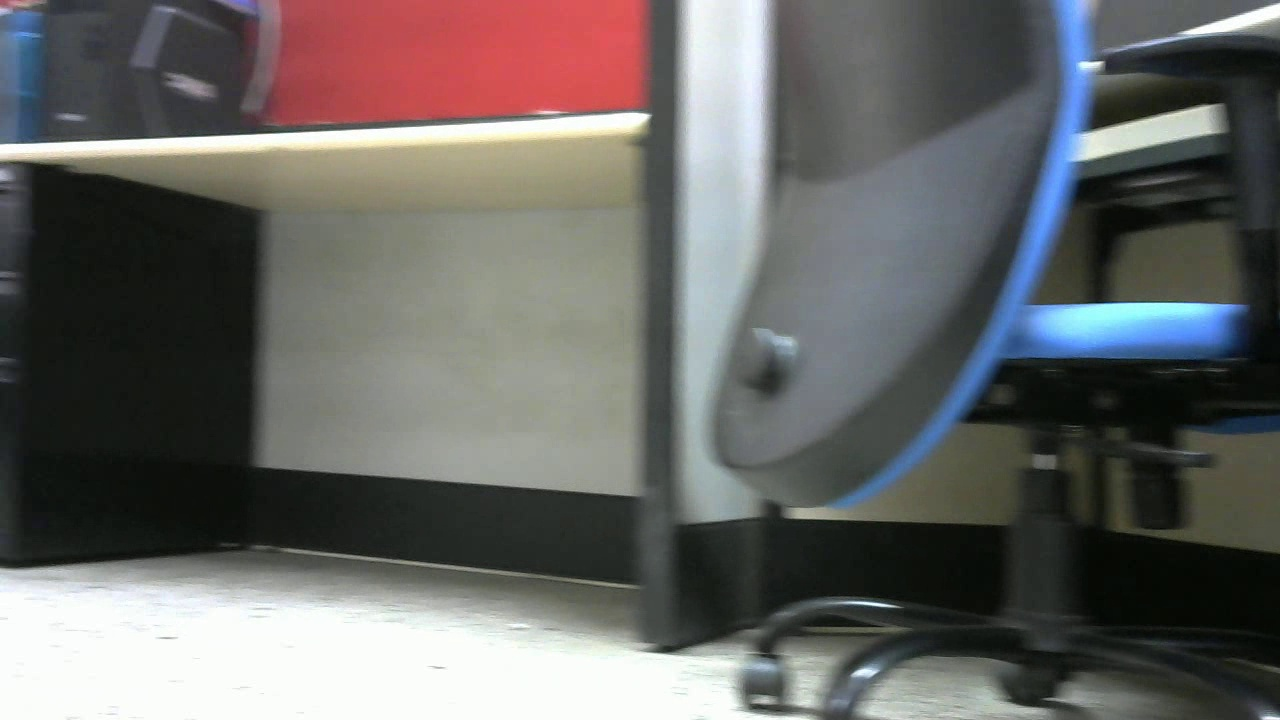chair: (709, 1, 1280, 720)
